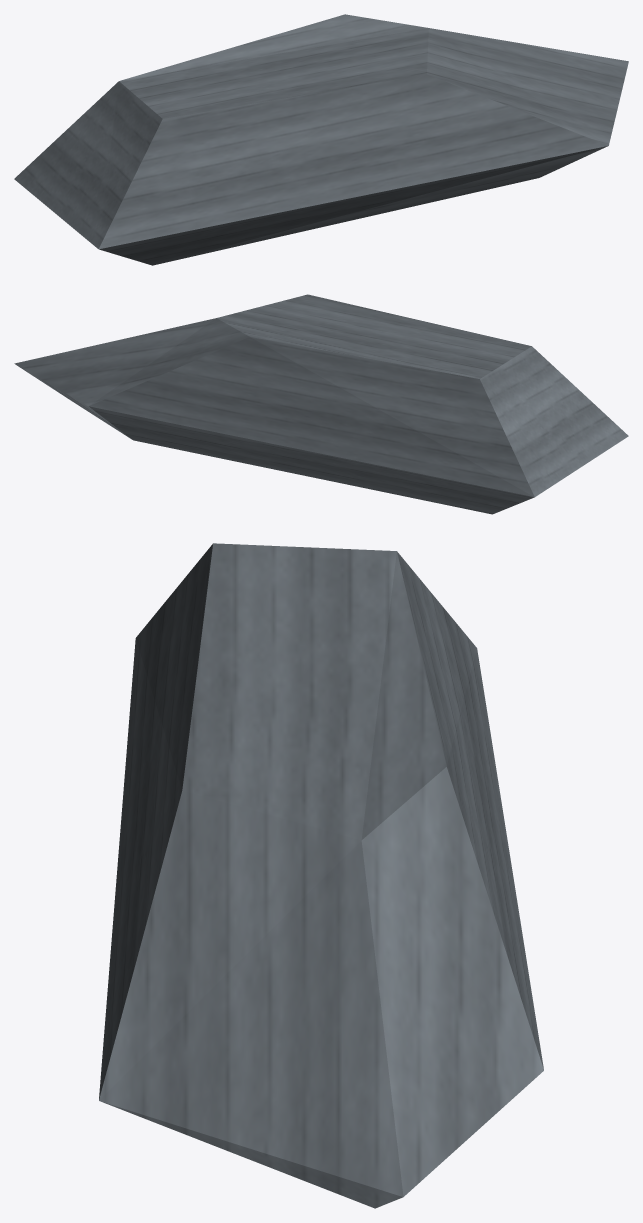
Rendered from stone_shale_splinter.glb.
3 renders of one model, top to bottom at view 1: azimuth 30°, elevation 25°; view 2: azimuth 150°, elevation 25°; view 3: azimuth 270°, elevation 25°, orthographic. The views are drawn at different scales.
Parts seen in each view (by area): view 1: stone_shale_splinter; view 2: stone_shale_splinter; view 3: stone_shale_splinter.
Boxes of the visible parts, box(x1,y1,x2,y2) form: stone_shale_splinter: box(14, 14, 628, 265); stone_shale_splinter: box(14, 294, 628, 514); stone_shale_splinter: box(99, 543, 543, 1208).
Size of the model in its own units: 0.54 by 0.12 by 0.19.
1 material, 1 textured.
